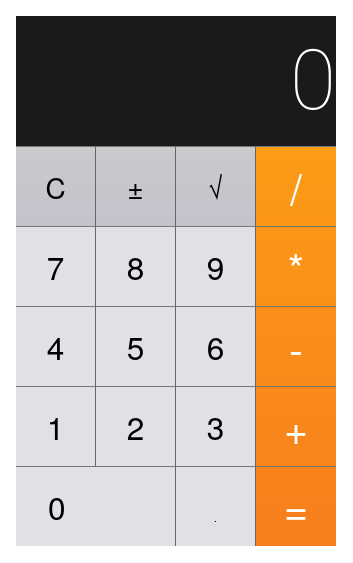
Test case: Calculator Tests › should display 1 when "6 - 5 = " is clicked
Click the button with class "key-6" at (216, 346), box [176,306,256,386]
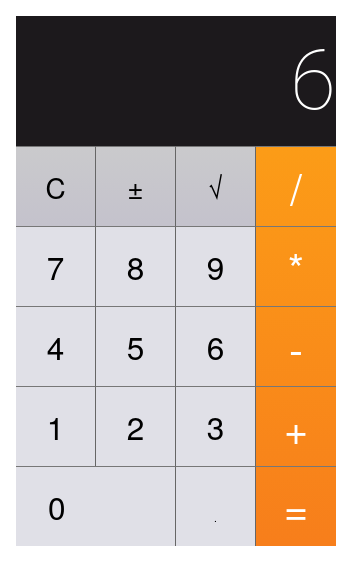
Click the button with class "key-subtract" at (296, 346), box [256,306,336,386]
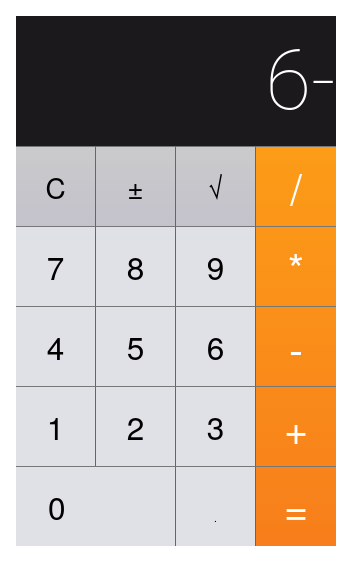
Click the button with class "key-5" at (136, 346), box [96,306,176,386]
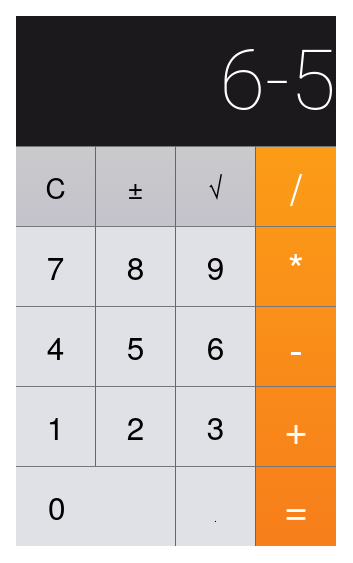
Click the button with class "key-equals" at (296, 506), box [256,466,336,546]
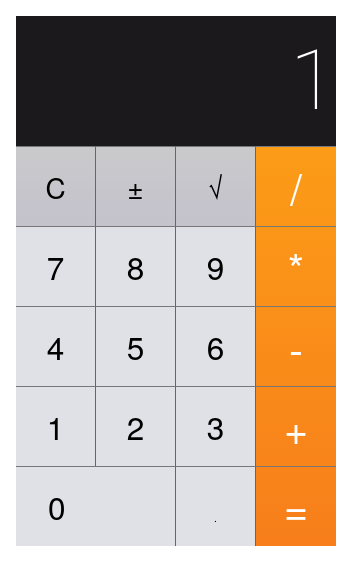
Check: the text with class "calculator-display" reads "1", box [16,16,336,146]
